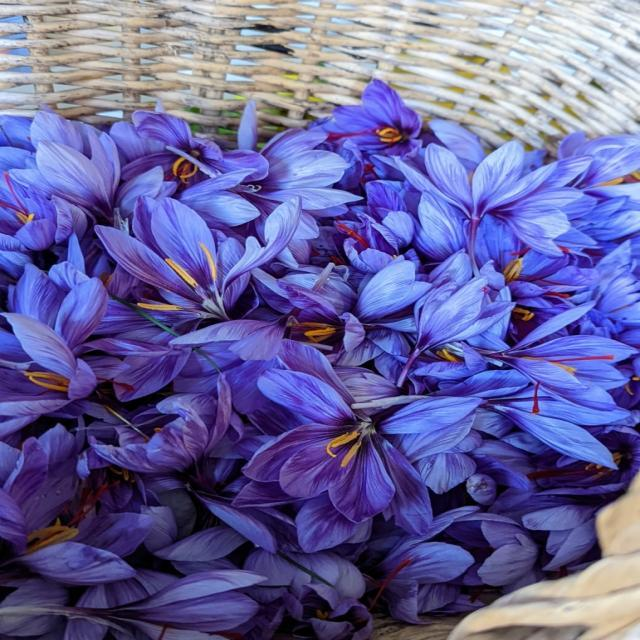Flower: (0, 91, 640, 640)
stigma: (546, 345, 620, 369), (639, 230, 640, 282)
